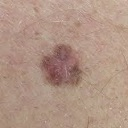Melanoma: (44, 44, 82, 84)
